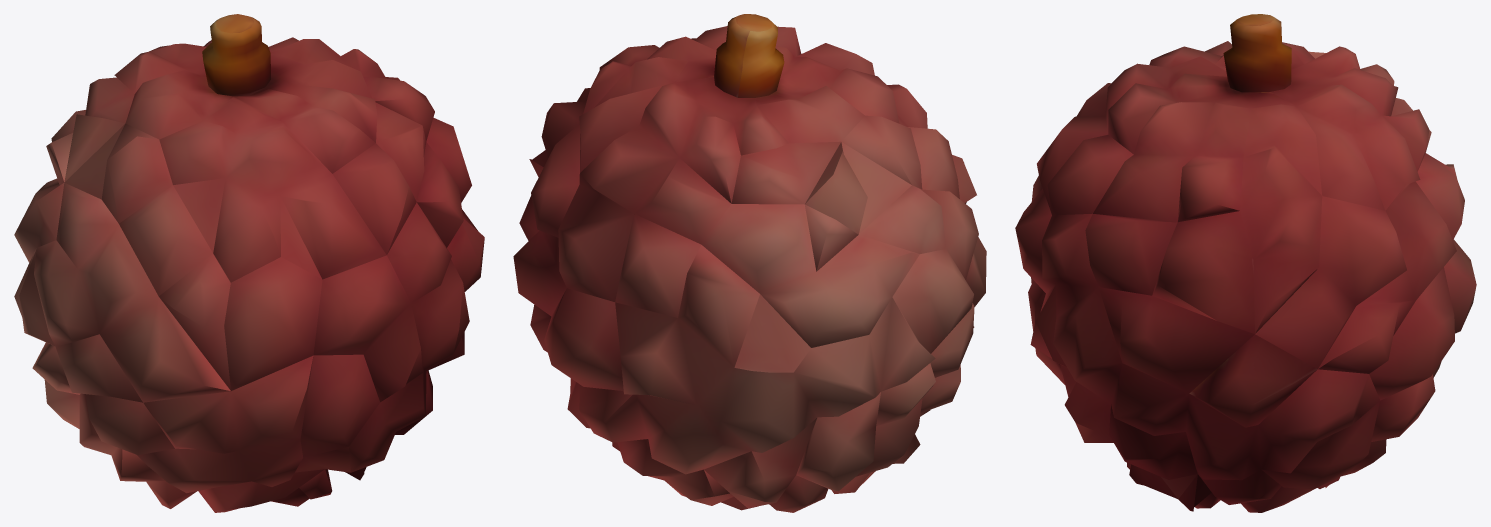
Rendered from Lychee.glb.
3 views of the same model, side by side, from view 1: azimuth 30°, elevation 25°; view 2: azimuth 150°, elevation 25°; view 3: azimuth 270°, elevation 25° (orthographic).
Parts seen in each view (by area): view 1: geometry_0; view 2: geometry_0; view 3: geometry_0.
Part boxes in pixels (box(x1,y1,x2,y2)): geometry_0: box(14, 14, 484, 512); geometry_0: box(513, 14, 986, 512); geometry_0: box(1015, 14, 1476, 512).
Bounding box in the file's own units: 0.9573 × 1.06 × 0.9343.
Materials: 1 (1 with a texture image).
